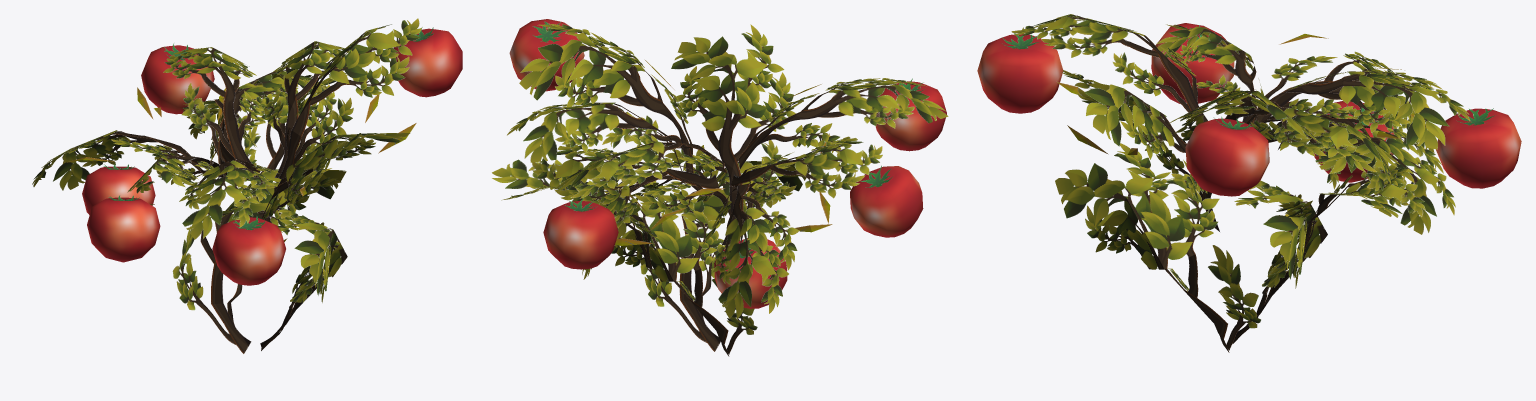
File: Tomato_01.FBX
3 renders of one model, left to right at view 1: azimuth 30°, elevation 25°; view 2: azimuth 150°, elevation 25°; view 3: azimuth 270°, elevation 25°, orthographic. The views are drawn at different scales.
Parts seen in each view (by area): view 1: Leaves, Tomato_01; view 2: Leaves, Tomato_01; view 3: Leaves, Tomato_01.
Part boxes in pixels (bbox=[...]): Leaves: bbox=[32, 18, 433, 353]; Tomato_01: bbox=[82, 28, 462, 285]; Leaves: bbox=[492, 21, 948, 356]; Tomato_01: bbox=[509, 19, 946, 308]; Leaves: bbox=[1001, 14, 1495, 352]; Tomato_01: bbox=[977, 23, 1521, 196].
Size of the model in its own units: 2.49 by 1.97 by 2.65.
